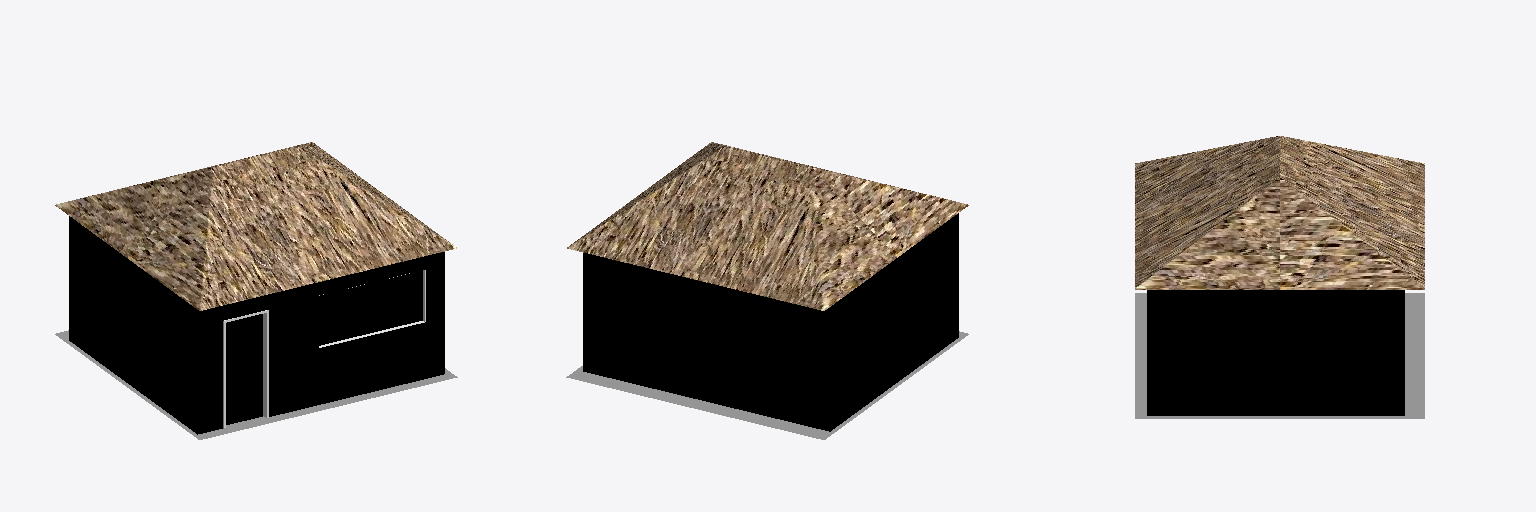
3 renders of one model, left to right at view 1: azimuth 30°, elevation 25°; view 2: azimuth 150°, elevation 25°; view 3: azimuth 270°, elevation 25°, orthographic.
Visible parts, largest first — view 1: polySurface2; view 2: polySurface2; view 3: polySurface2.
Boxes of the visible parts, box(x1,y1,x2,y2) form: polySurface2: box(55, 142, 457, 439); polySurface2: box(566, 142, 968, 439); polySurface2: box(1135, 136, 1424, 418).
Size of the model in its own units: 25.5 by 18.82 by 24.88.
6 materials, 1 textured.